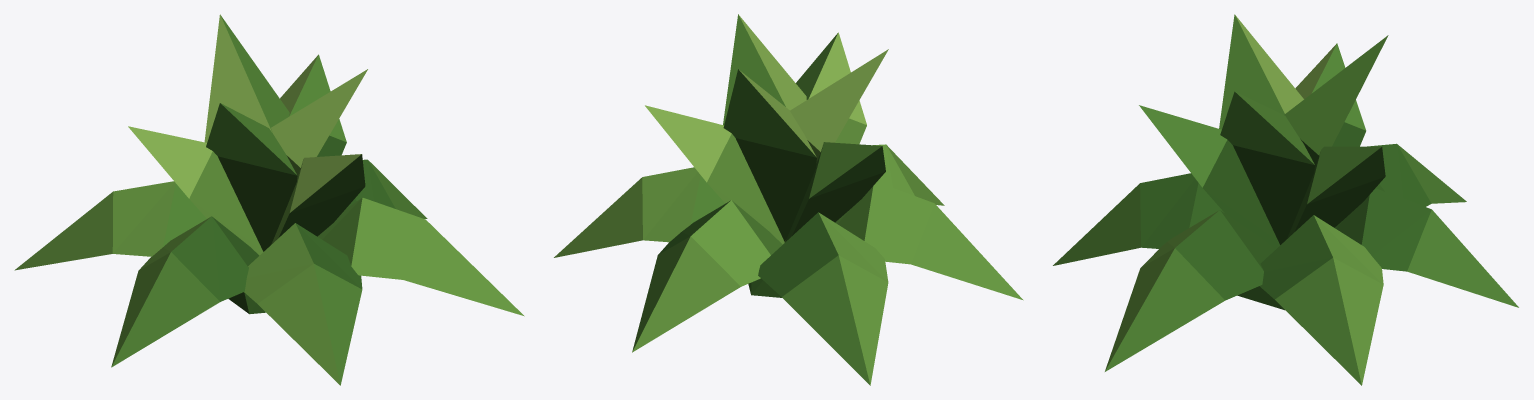
File: grass_tuft.glb
3 renders of one model, left to right at view 1: azimuth 30°, elevation 25°; view 2: azimuth 150°, elevation 25°; view 3: azimuth 270°, elevation 25°, orthographic. The views are drawn at different scales.
Parts seen in each view (by area): view 1: grass_tuft; view 2: grass_tuft; view 3: grass_tuft.
Part boxes in pixels (x1,y1,x2,y2): grass_tuft: (14,14,524,385); grass_tuft: (554,14,1023,385); grass_tuft: (1053,14,1518,385).
Bounding box in the file's own units: 1 × 0.6 × 1.
